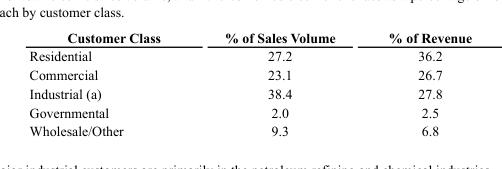table: (28, 29, 471, 138)
table column: (191, 29, 361, 138), (28, 29, 191, 138), (361, 29, 471, 138)
table column header: (28, 29, 471, 46)
table row: (28, 64, 471, 83), (28, 83, 471, 102), (28, 102, 471, 121), (28, 46, 471, 64), (28, 29, 471, 46), (28, 121, 471, 138)
